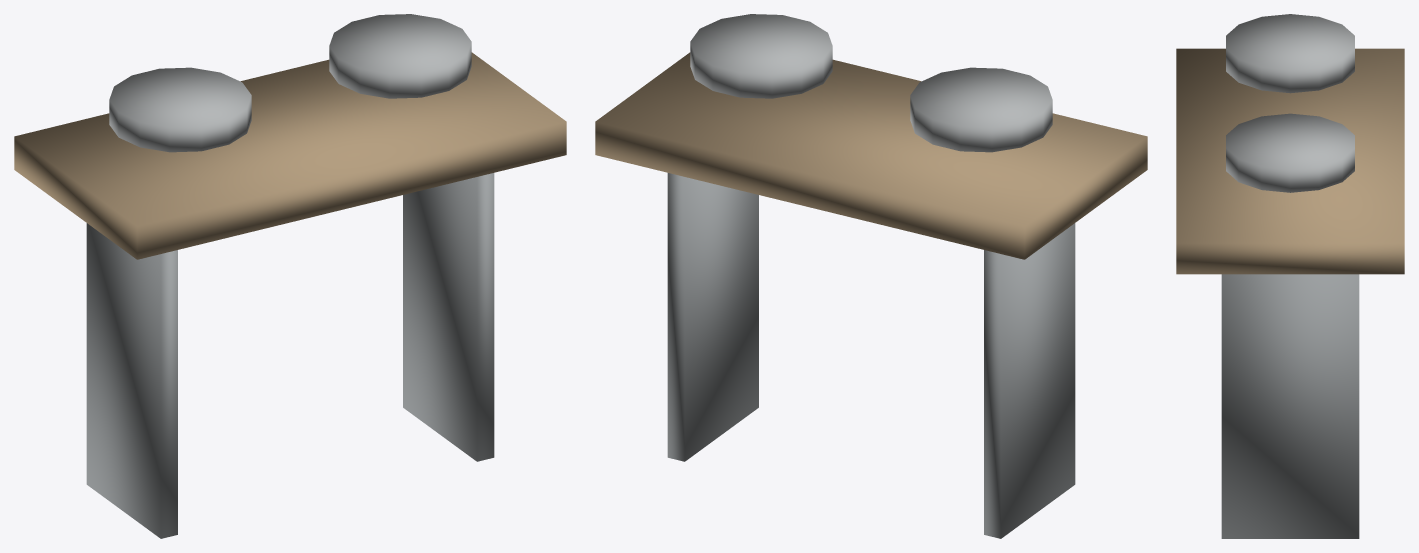
File: projection_rewind_bench__tall.glb
3 renders of one model, left to right at view 1: azimuth 30°, elevation 25°; view 2: azimuth 150°, elevation 25°; view 3: azimuth 270°, elevation 25°, orthographic. The views are drawn at different scales.
Visible parts, largest first — view 1: world; view 2: world; view 3: world.
Boxes of the visible parts, <box> form: world: <box>14,14,566,538</box>; world: <box>595,14,1147,538</box>; world: <box>1176,14,1404,538</box>.
Bounding box in the file's own units: 1.25 × 1.11 × 0.62.
